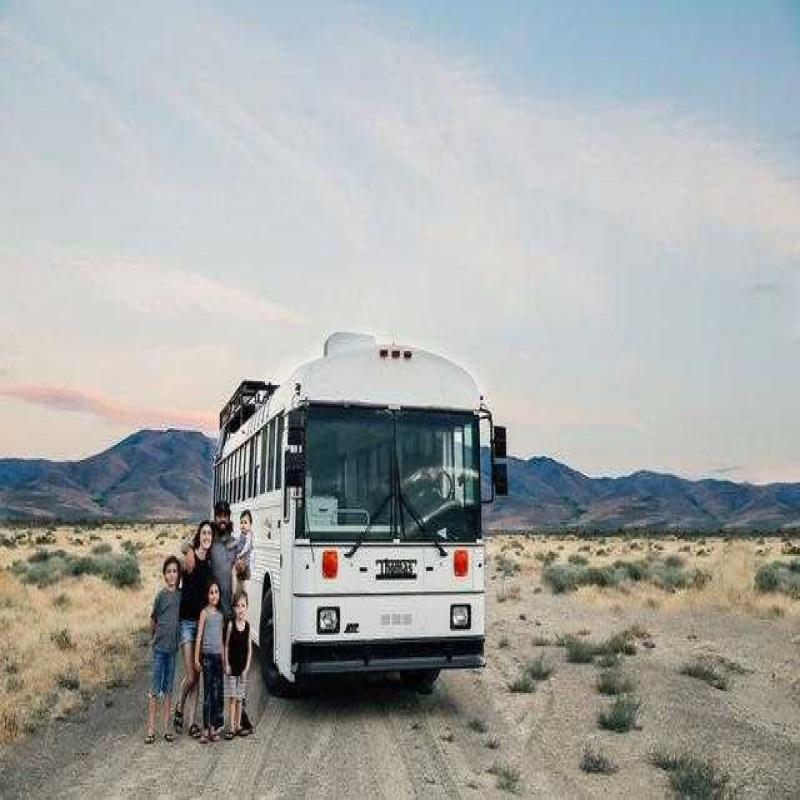bus: (204, 277, 530, 718)
